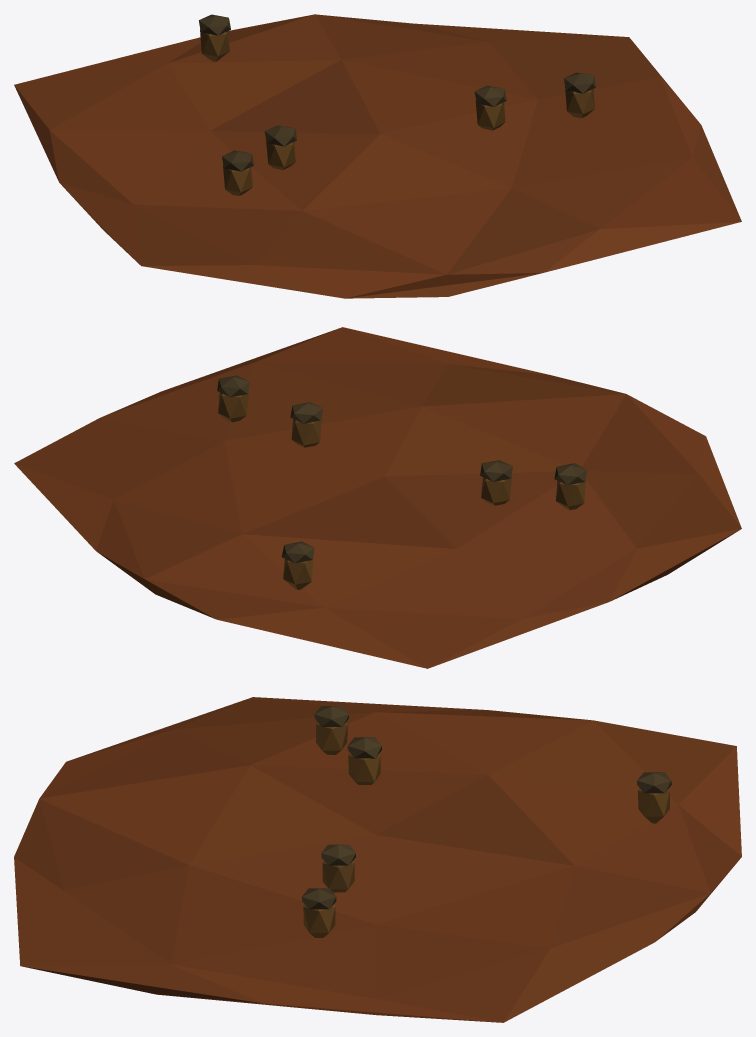
The model's file is acorn_scatter.glb.
3 renders of one model, top to bottom at view 1: azimuth 30°, elevation 25°; view 2: azimuth 150°, elevation 25°; view 3: azimuth 270°, elevation 25°, orthographic. The views are drawn at different scales.
Parts seen in each view (by area): view 1: acorn_scatter; view 2: acorn_scatter; view 3: acorn_scatter.
Part boxes in pixels (bbox=[...]): acorn_scatter: bbox=[14, 14, 741, 298]; acorn_scatter: bbox=[14, 327, 741, 668]; acorn_scatter: bbox=[14, 697, 741, 1022].
Bounding box in the file's own units: 0.4943 × 0.0602 × 0.4667.
